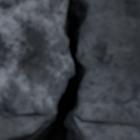broken_brick: (0, 0, 72, 118), (80, 0, 139, 118), (75, 116, 139, 128)
crack: (2, 0, 139, 139)
